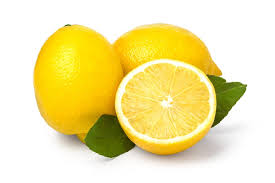Lemon: (27, 22, 126, 141), (117, 17, 228, 88)
